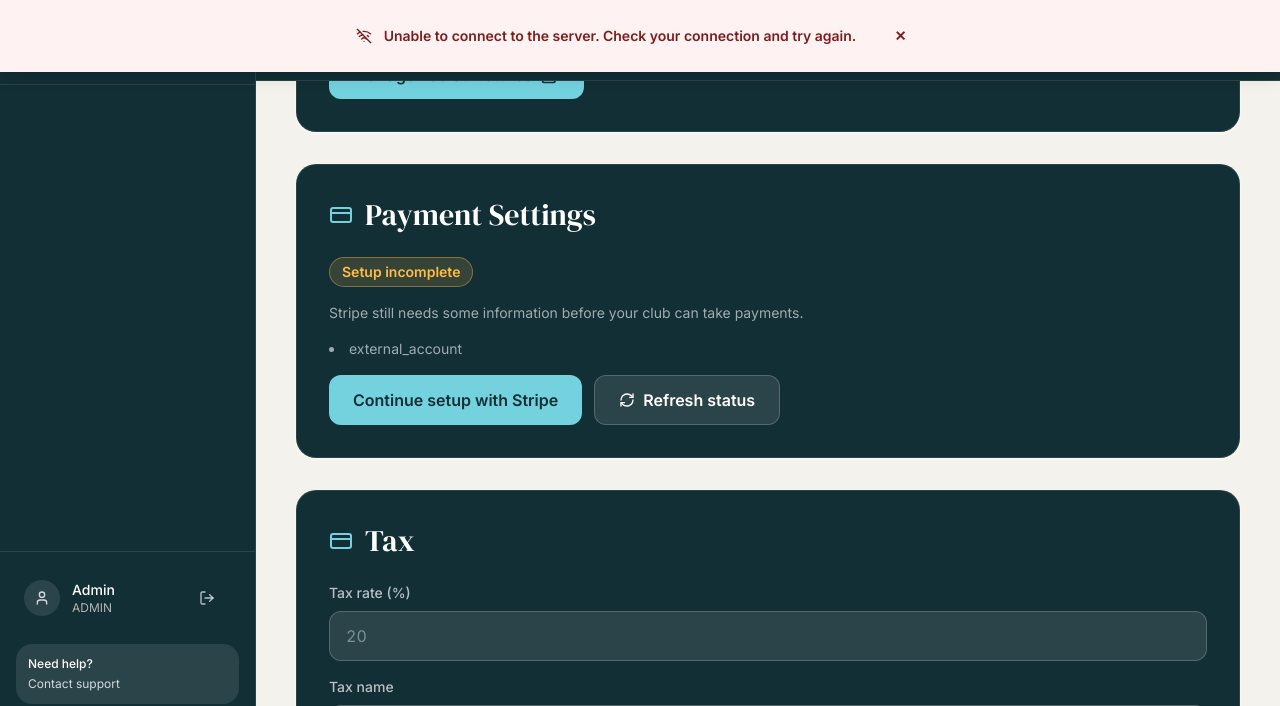
Scenario: SettingsPage payments connection card › refreshes the connection status via sync when Refresh status is clicked
(page scrolled)
Click the button "Refresh status" at {"x": 687, "y": 400}, box left=594, top=375, right=780, bottom=425
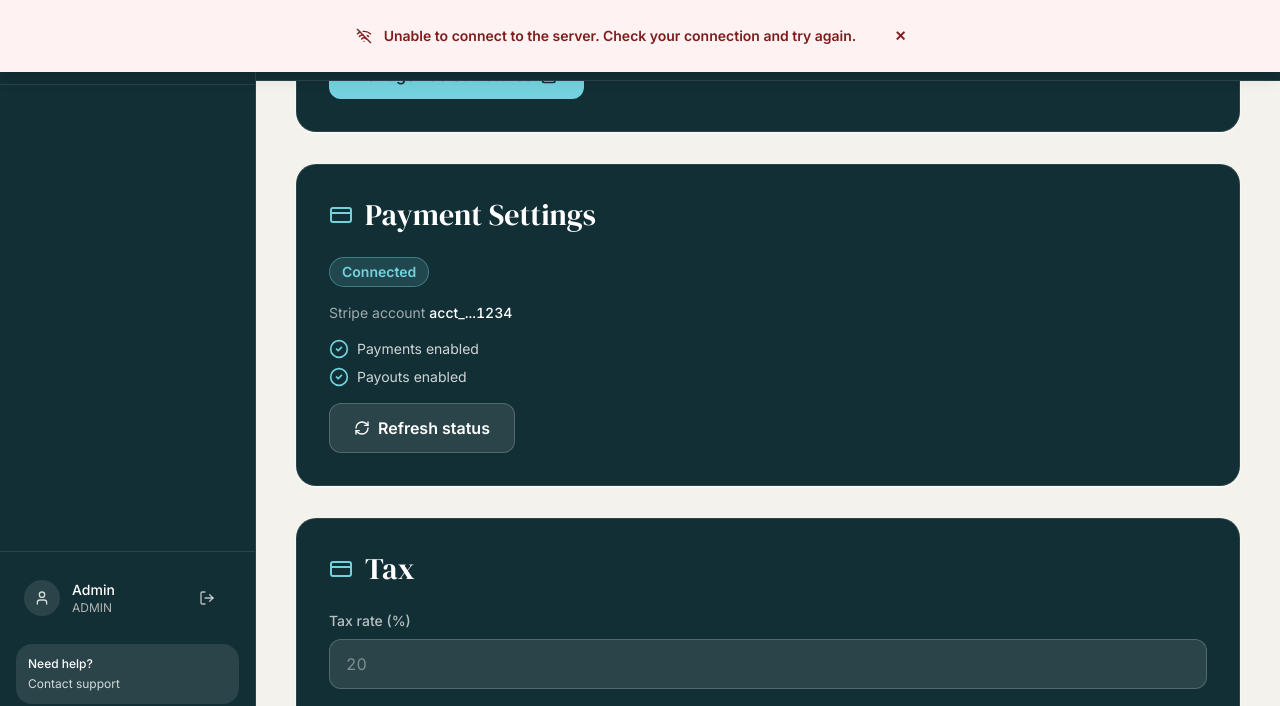
Check: the text "Connected" is shown, box left=329, top=257, right=429, bottom=287
